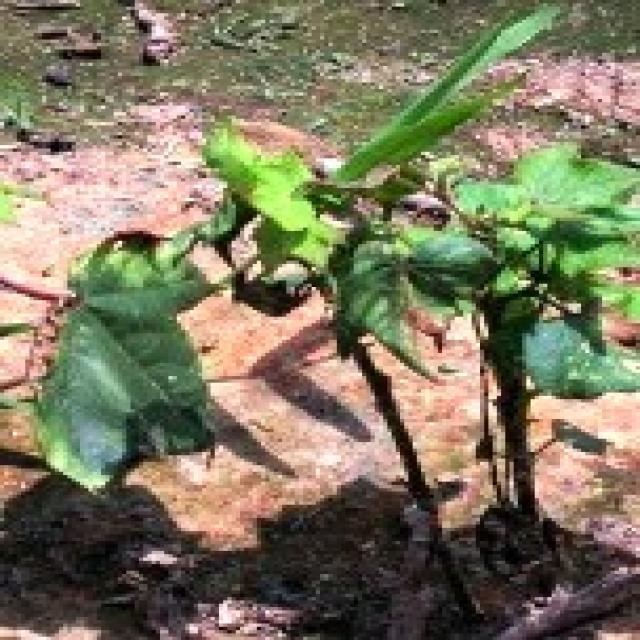Fusarium Wilt: (63, 62, 568, 538)
